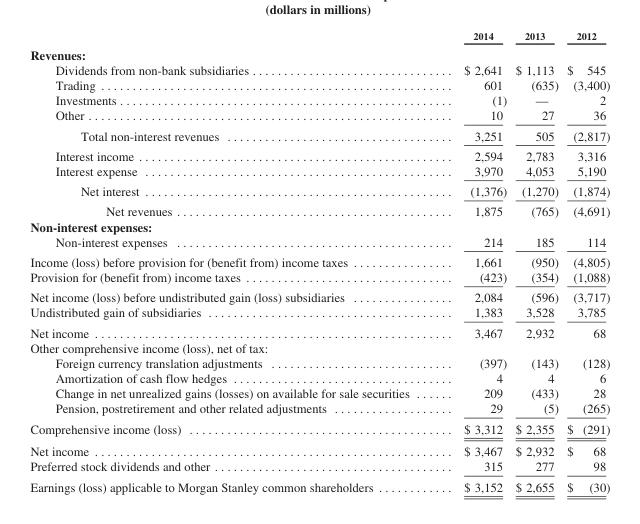table: (29, 29, 609, 493)
table column: (29, 29, 435, 493), (435, 29, 510, 493), (510, 29, 562, 493), (562, 29, 609, 493)
table column header: (29, 29, 609, 43)
table projected row header: (29, 43, 609, 62), (29, 339, 609, 355), (29, 218, 609, 233)
table row: (29, 418, 609, 439), (29, 125, 609, 145), (29, 180, 609, 200), (29, 43, 609, 62), (29, 439, 609, 458), (29, 107, 609, 125), (29, 145, 609, 163), (29, 200, 609, 218), (29, 233, 609, 251), (29, 251, 609, 269), (29, 286, 609, 304), (29, 304, 609, 322), (29, 400, 609, 418), (29, 458, 609, 476), (29, 163, 609, 180), (29, 269, 609, 286), (29, 322, 609, 339), (29, 476, 609, 493), (29, 339, 609, 355), (29, 62, 609, 77), (29, 77, 609, 92), (29, 92, 609, 107), (29, 218, 609, 233), (29, 355, 609, 370), (29, 370, 609, 385), (29, 385, 609, 400), (29, 29, 609, 43)
